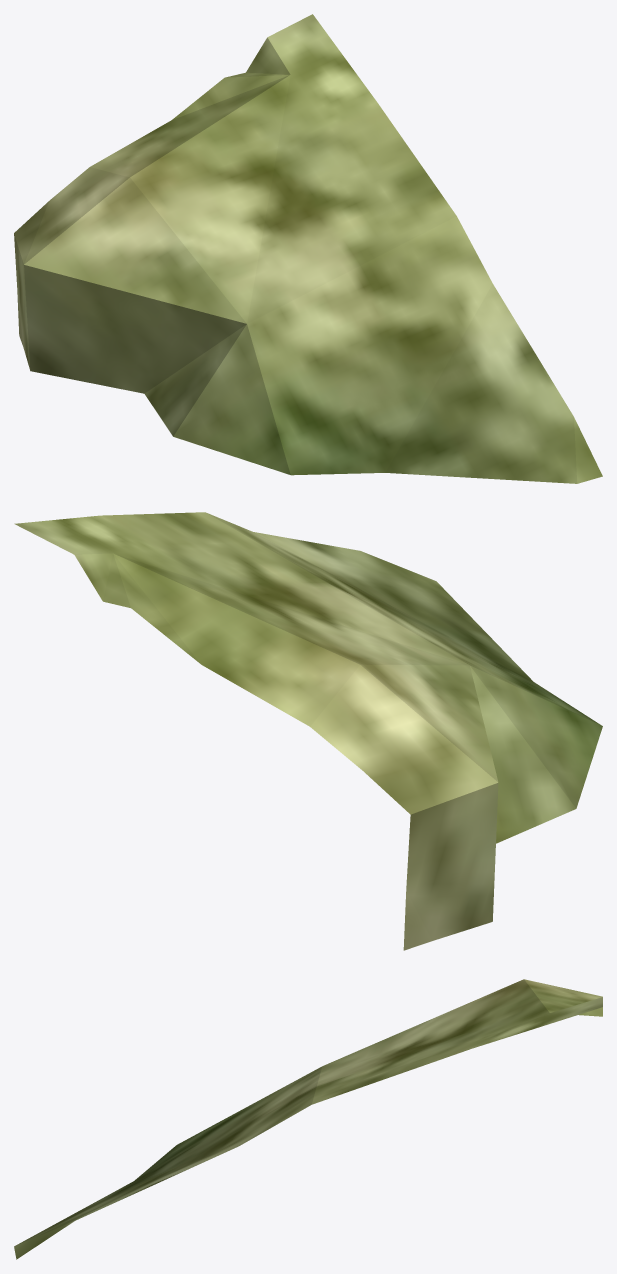
The picture shows the model from 3 angles, top to bottom: view 1: azimuth 30°, elevation 25°; view 2: azimuth 150°, elevation 25°; view 3: azimuth 270°, elevation 25°; orthographic projection. The views are drawn at different scales.
Bounding box in the file's own units: 0.5208 × 0.3806 × 0.804.
Materials: 1 (1 with a texture image).
